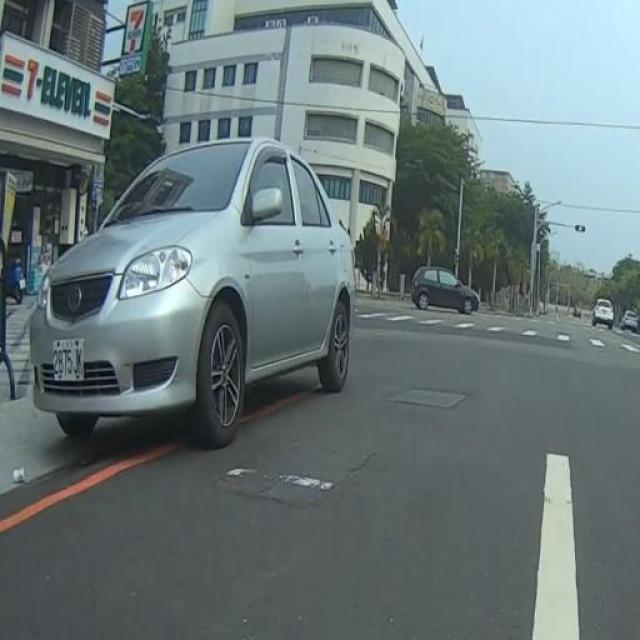illegalparking: (0, 120, 381, 486)
